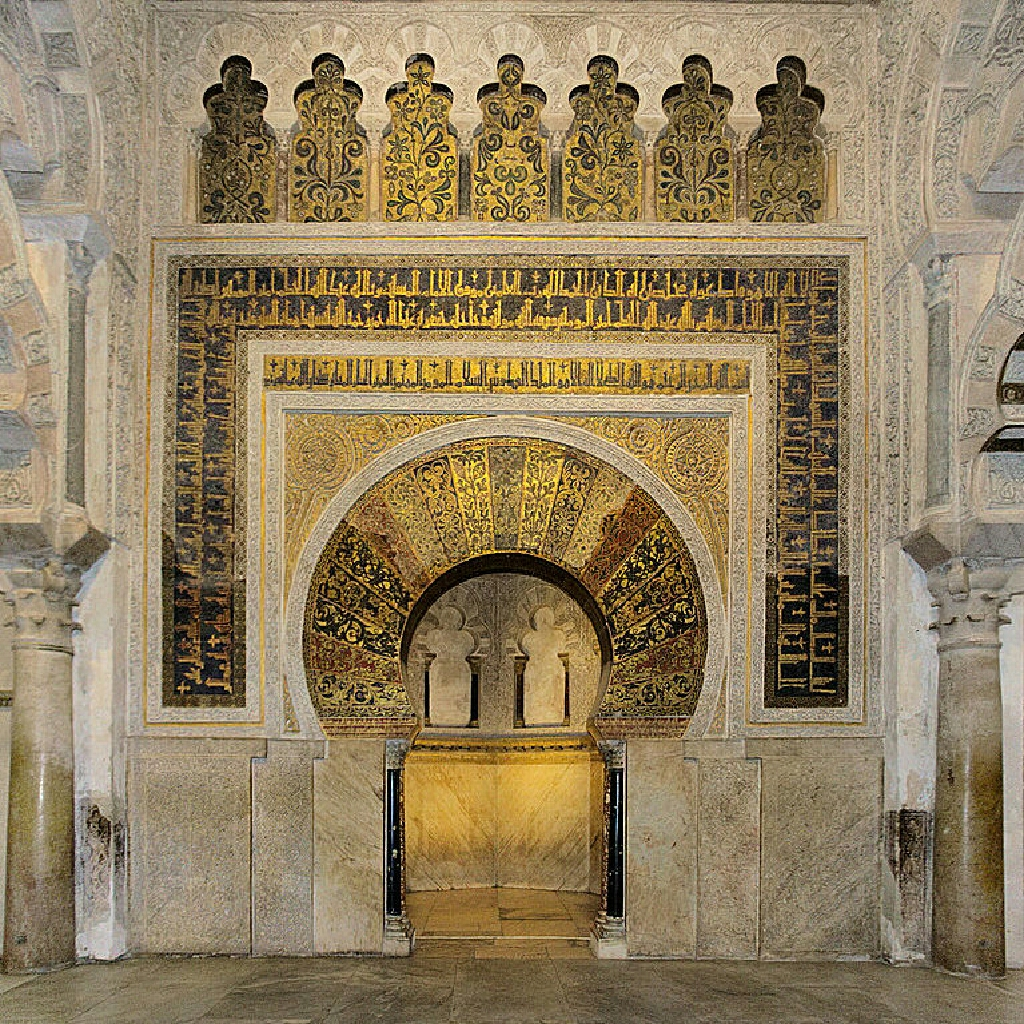arco-herradura: (354, 531, 632, 756)
